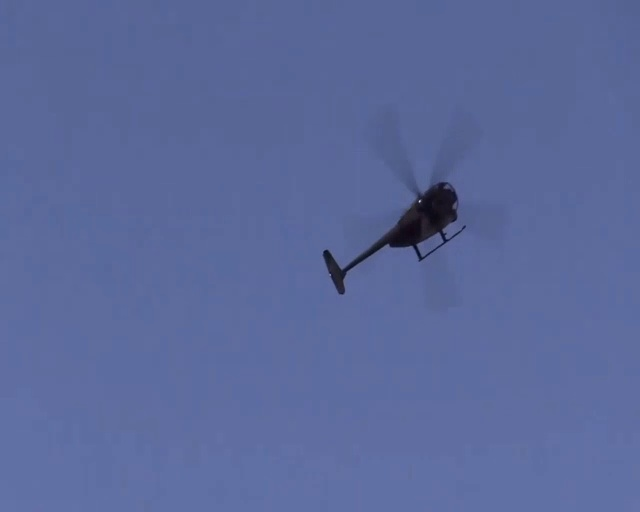HELICOPTER: (323, 103, 492, 297)
